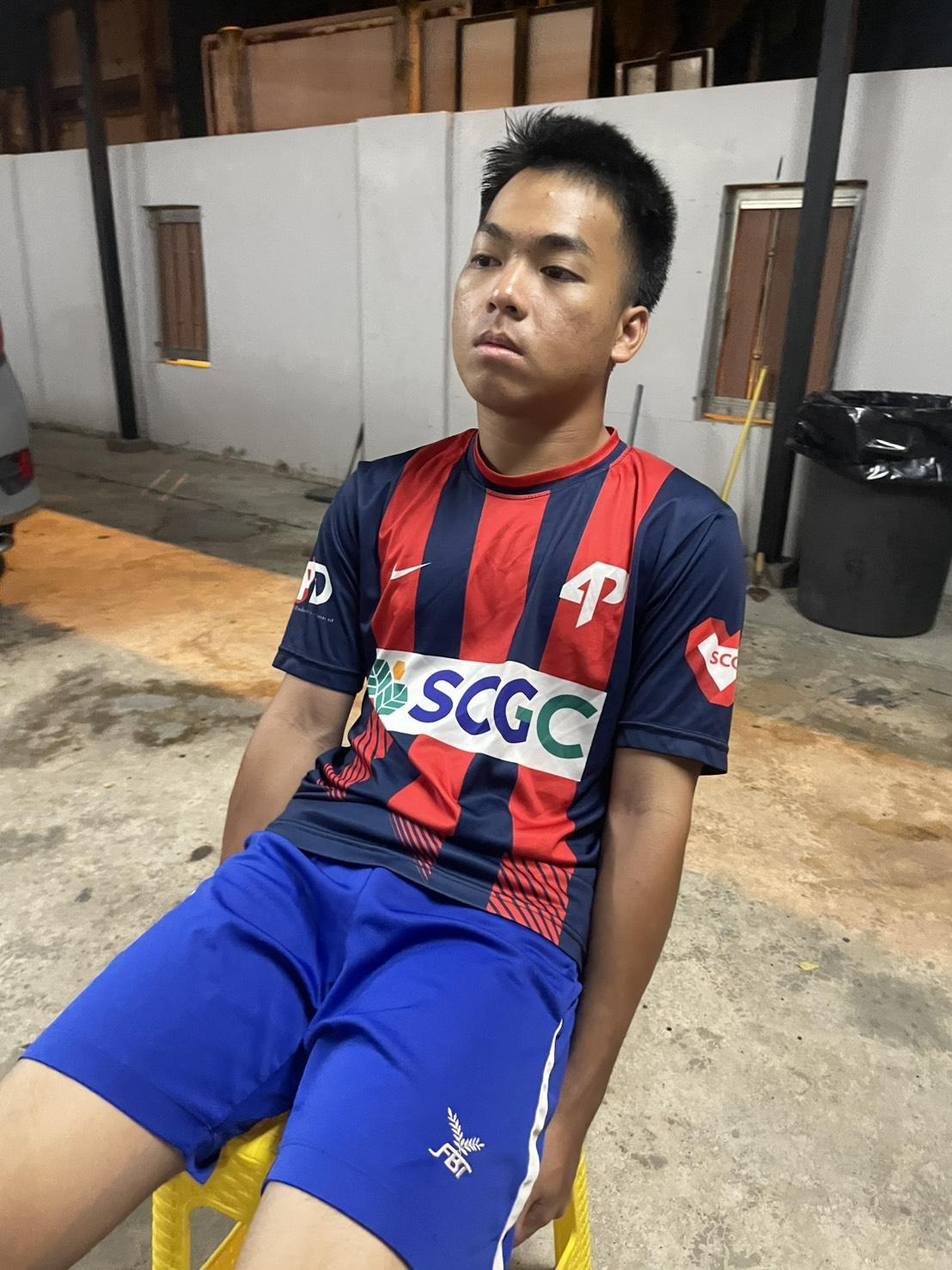BadPosture: (223, 112, 743, 963)
